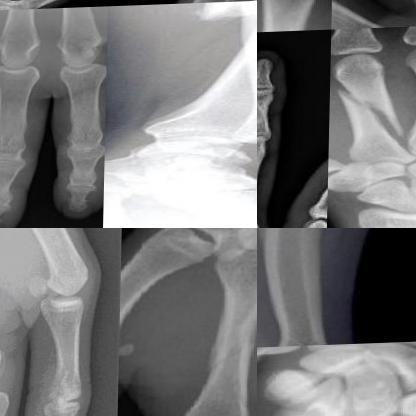fracture: (330, 76, 413, 150), (202, 310, 256, 386)
